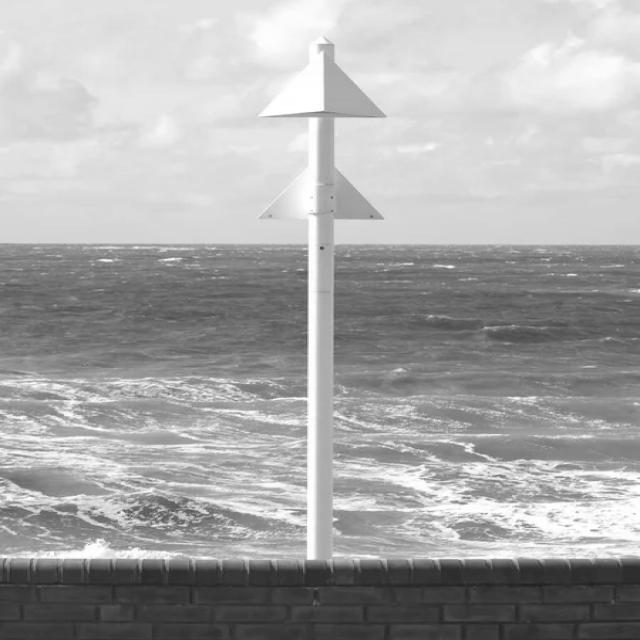Pole: (260, 38, 386, 560)
